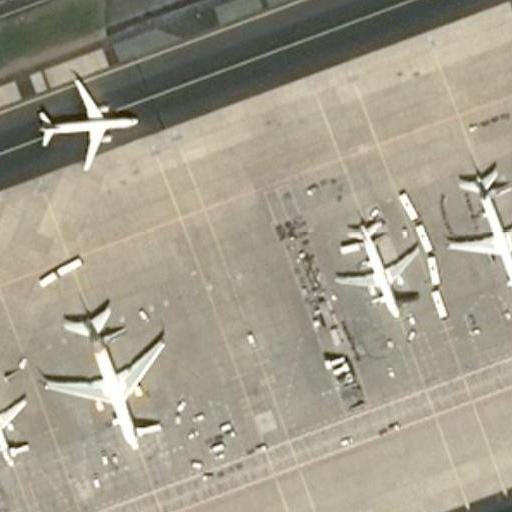Aircraft: (42, 307, 167, 449), (44, 307, 169, 448), (327, 215, 425, 328), (29, 71, 138, 172), (26, 76, 138, 173), (444, 170, 512, 311), (329, 217, 420, 320), (446, 167, 512, 307), (0, 361, 30, 468), (0, 370, 30, 465)
